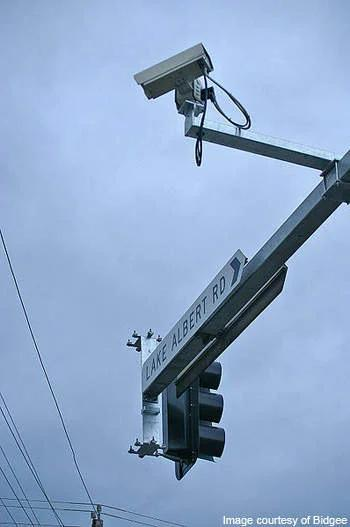Monitor: (132, 41, 214, 101)
